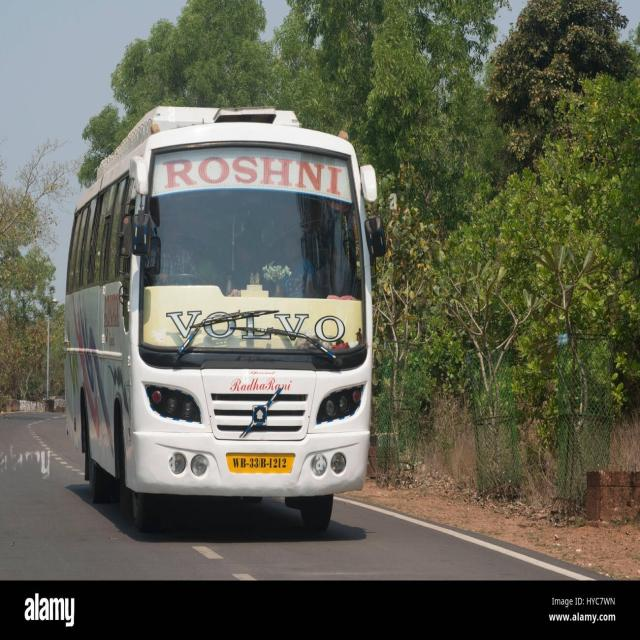bus: (65, 105, 384, 531)
